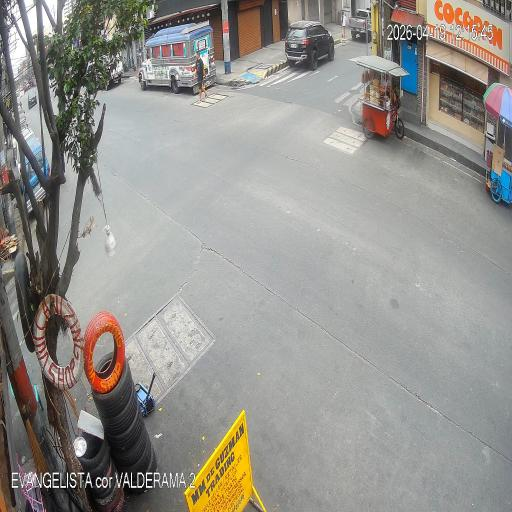Car: (287, 18, 333, 71), (28, 88, 37, 108)
